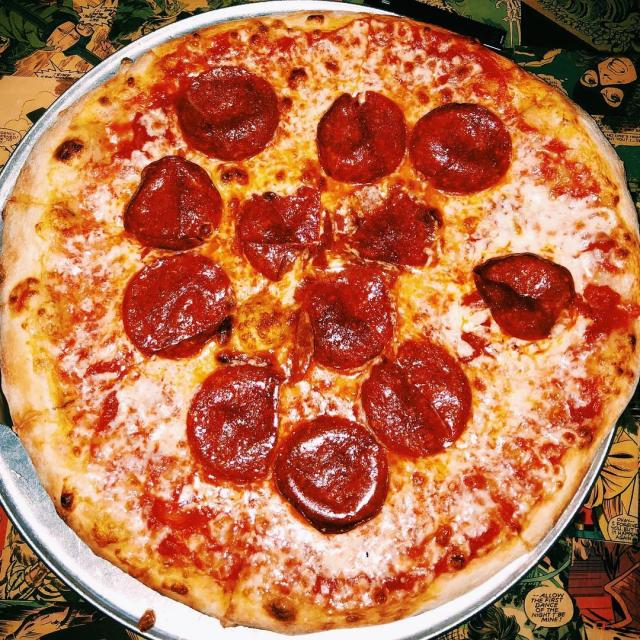pepperoni: (359, 336, 476, 456), (278, 415, 391, 533), (120, 251, 234, 359), (186, 364, 280, 487), (172, 64, 281, 164), (120, 153, 226, 254), (470, 248, 575, 344), (298, 266, 394, 368), (409, 101, 512, 196), (316, 89, 406, 184), (242, 186, 321, 283), (353, 185, 428, 270)
pizza: (0, 8, 640, 637)
